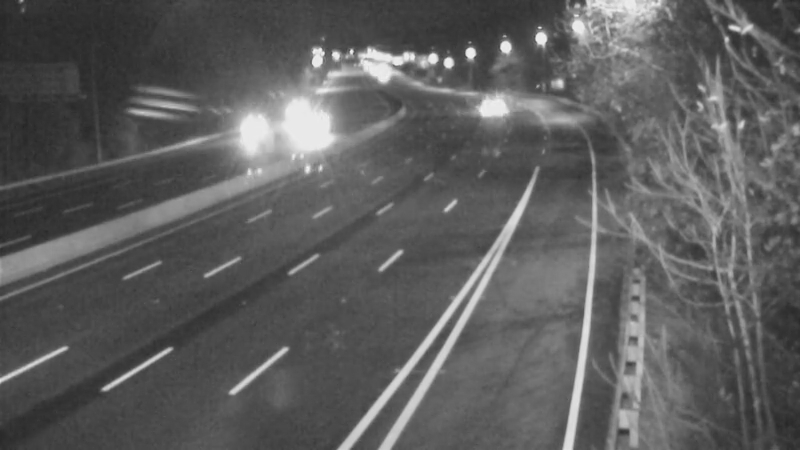vehicle: (464, 73, 514, 123), (229, 107, 279, 157), (290, 108, 340, 158), (272, 85, 322, 135)
